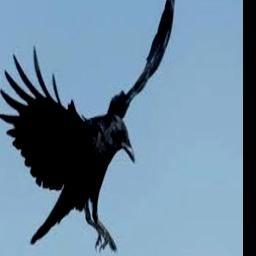Crow: (0, 0, 176, 255)
